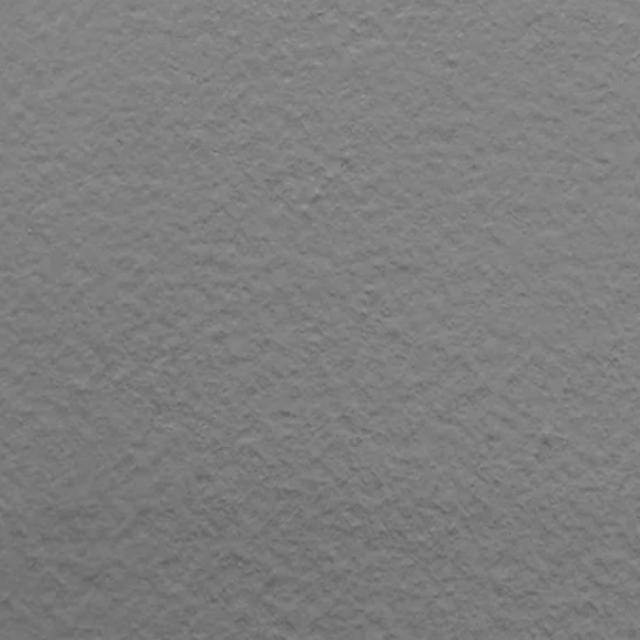rough and patchy surface: (5, 5, 634, 628)
